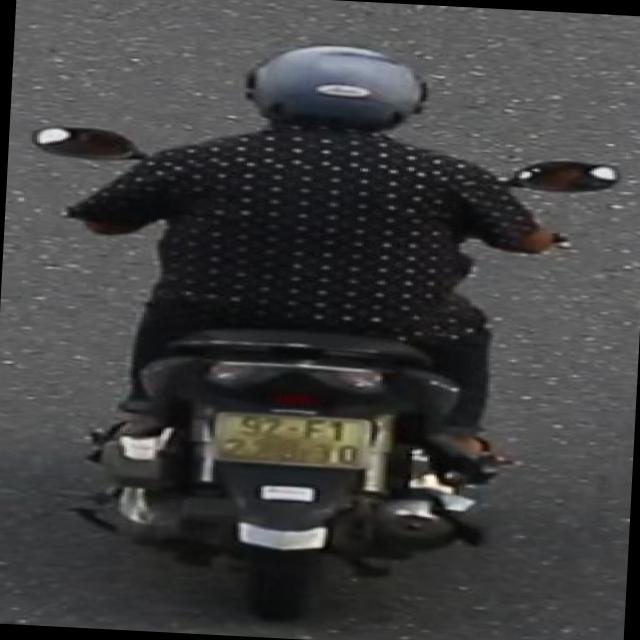LP: (202, 403, 385, 474)
helmet: (236, 34, 442, 150)
